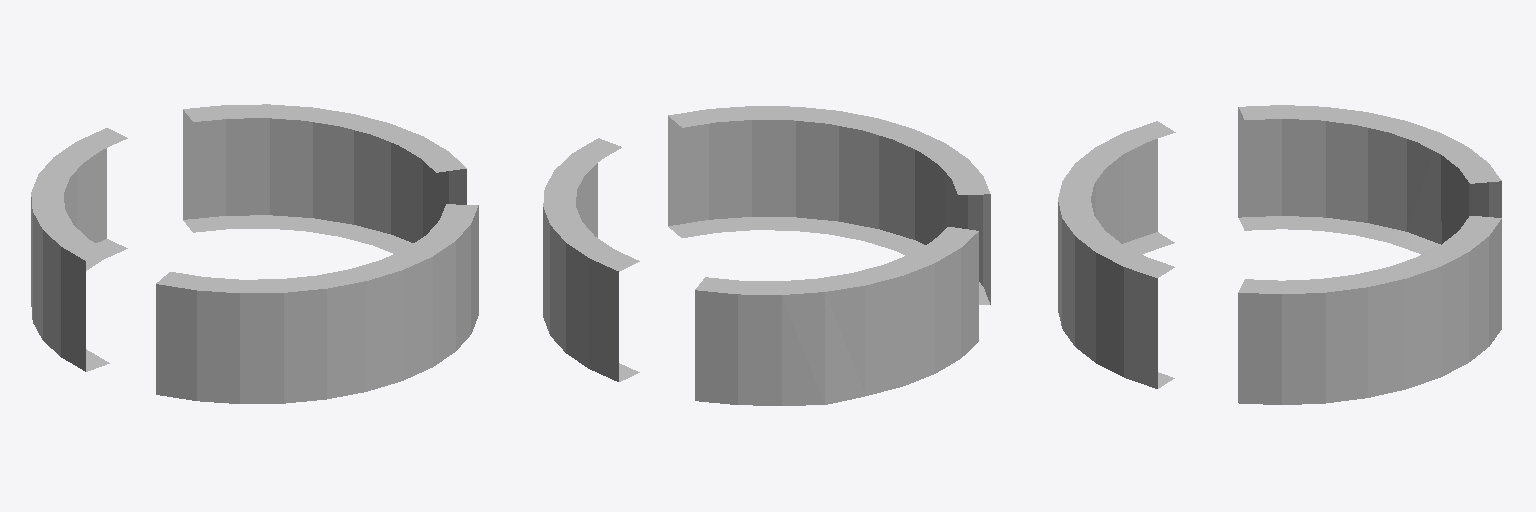
File: salaprue4.obj
The picture shows the model from 3 angles: view 1: azimuth 30°, elevation 25°; view 2: azimuth 150°, elevation 25°; view 3: azimuth 270°, elevation 25°; orthographic projection.
Parts seen in each view (by area): view 1: Cylinder; view 2: Cylinder; view 3: Cylinder.
Part boxes in pixels (x1,y1,x2,y2): Cylinder: (31,104,478,403); Cylinder: (543,106,990,405); Cylinder: (1058,105,1501,404).
Bounding box in the file's own units: 110 × 30.46 × 109.